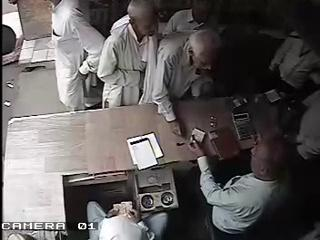Normal: (188, 108, 292, 239), (140, 28, 222, 140), (46, 0, 106, 112)
shoplifting: (96, 0, 160, 109)
